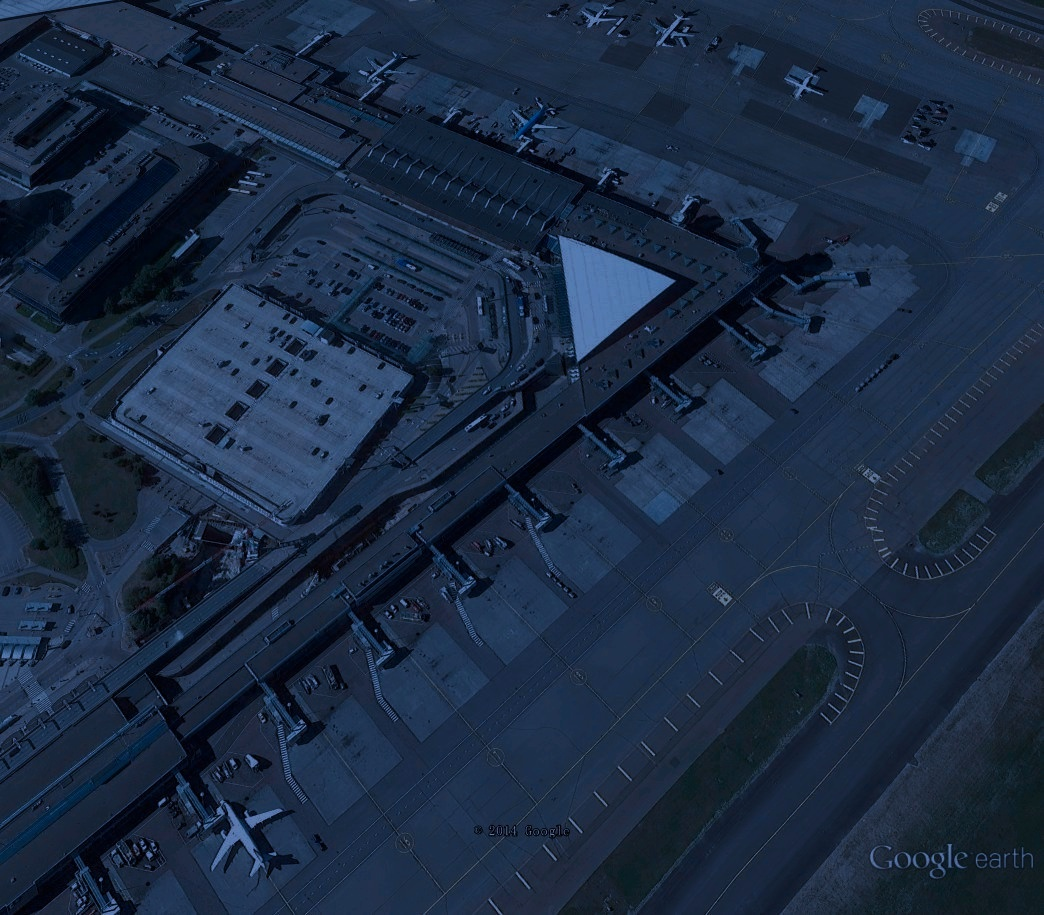aircraft: (208, 796, 298, 880), (504, 97, 570, 148), (358, 46, 414, 87), (643, 12, 700, 51), (781, 67, 829, 106), (579, 4, 621, 34)
